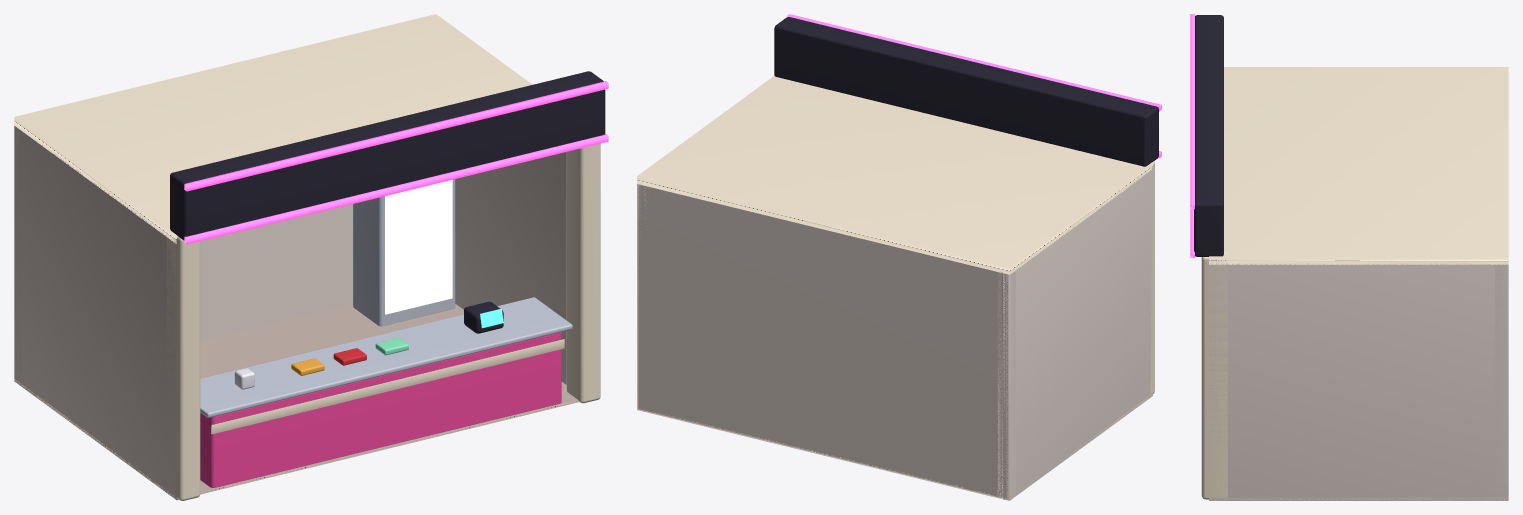
File: mall_stall.glb
The picture shows the model from 3 angles, left to right: view 1: azimuth 30°, elevation 25°; view 2: azimuth 150°, elevation 25°; view 3: azimuth 270°, elevation 25°; orthographic projection. The views are drawn at different scales.
Parts seen in each view (by area): view 1: Stall; view 2: Stall; view 3: Stall.
Boxes of the visible parts, left/top/right/bottom form: Stall: left=14, top=14, right=608, bottom=500; Stall: left=637, top=14, right=1161, bottom=500; Stall: left=1190, top=14, right=1508, bottom=500.
Bounding box in the file's own units: 6 × 4.38 × 4.25.
